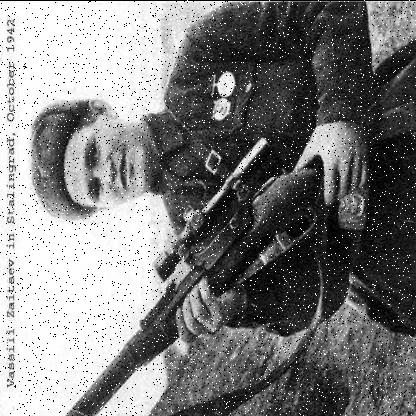rifle: (67, 100, 377, 416)
